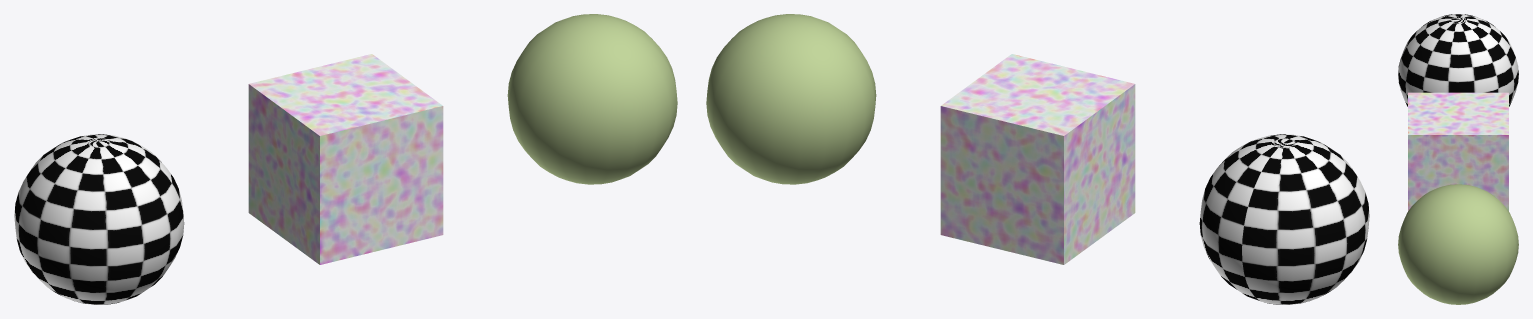
File: simple_fbx.fbx
The picture shows the model from 3 angles, left to right: view 1: azimuth 30°, elevation 25°; view 2: azimuth 150°, elevation 25°; view 3: azimuth 270°, elevation 25°; orthographic projection. The views are drawn at different scales.
Parts seen in each view (by area): view 1: box, sphere2, sphere1; view 2: box, sphere2, sphere1; view 3: sphere1, box, sphere2.
Part boxes in pixels (x1=…): box: x1=248, y1=54, x2=443, y2=264; sphere2: x1=14, y1=134, x2=184, y2=304; sphere1: x1=507, y1=14, x2=677, y2=184; box: x1=940, y1=54, x2=1135, y2=264; sphere2: x1=1199, y1=134, x2=1369, y2=304; sphere1: x1=706, y1=14, x2=876, y2=184; sphere1: x1=1398, y1=184, x2=1518, y2=304; box: x1=1408, y1=92, x2=1508, y2=210; sphere2: x1=1398, y1=14, x2=1518, y2=106.
Bounding box in the file's own units: 260 × 60 × 60.
3 materials, 2 textured.
